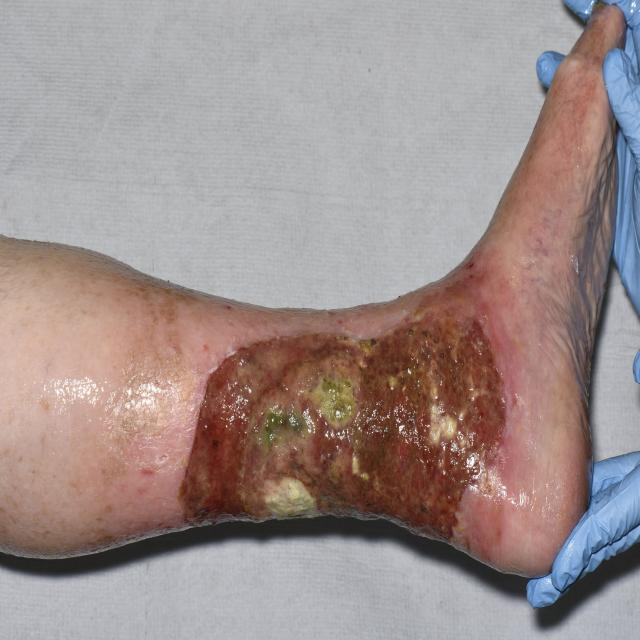wound: (177, 305, 508, 550)
